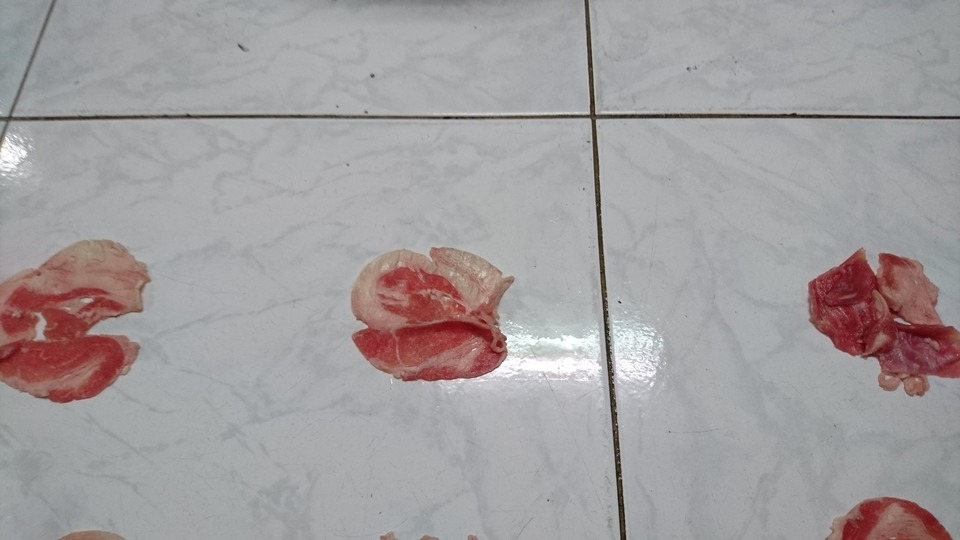restructured meat: (2, 228, 150, 403), (354, 246, 510, 390), (804, 245, 960, 389)
